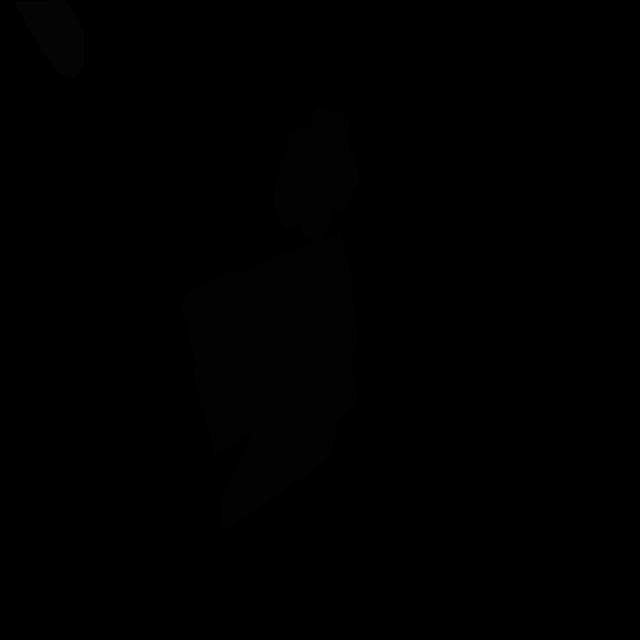cardboard: (180, 231, 358, 531), (273, 107, 359, 246)
soft_plastic: (16, 0, 84, 78)
